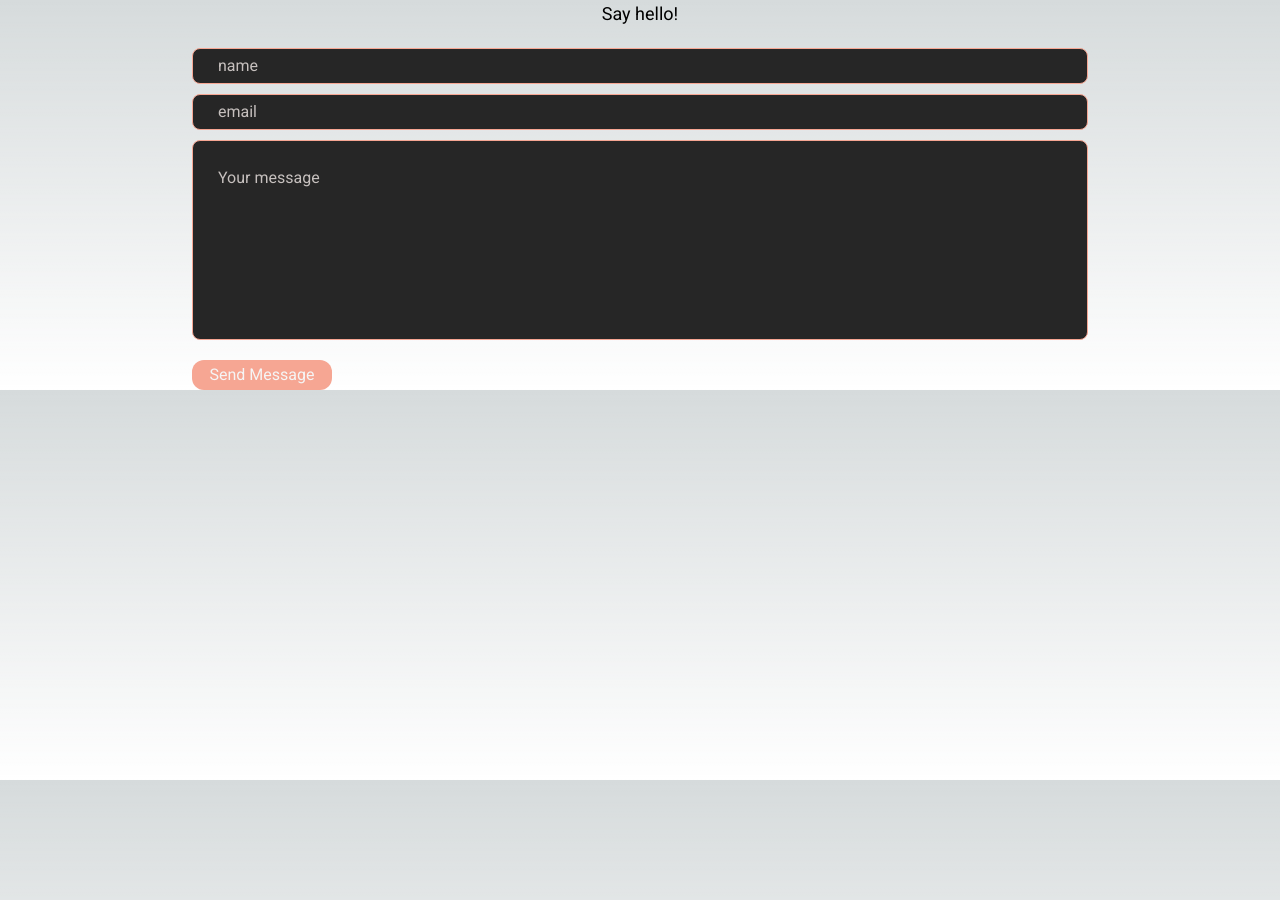
Contact Form › clicking button wont send email if fields invalid
Click the button "Send Message" at [262, 375], box [192,360,332,390]
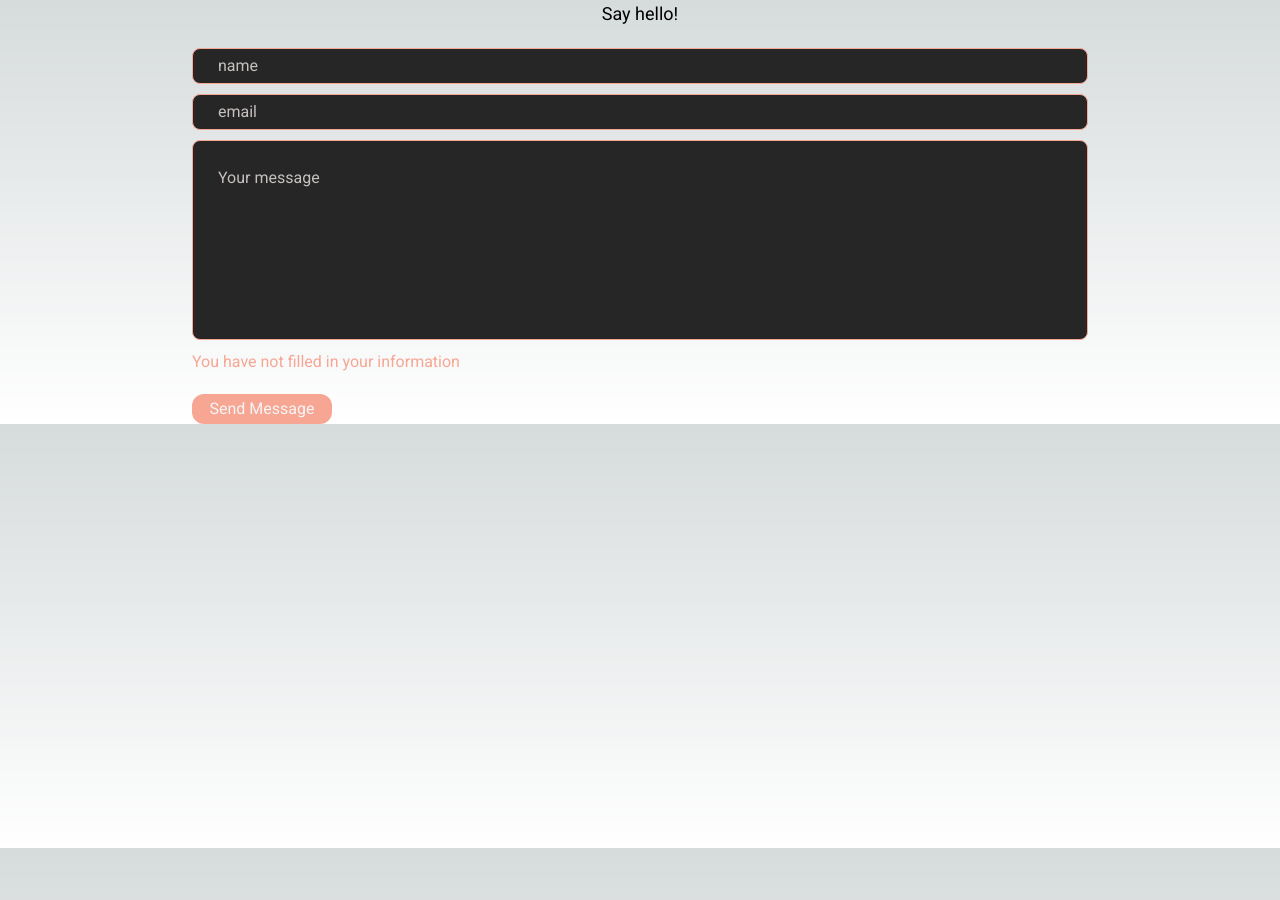
Result: the text "You have not filled in your information" is shown at [192,352,460,371]
